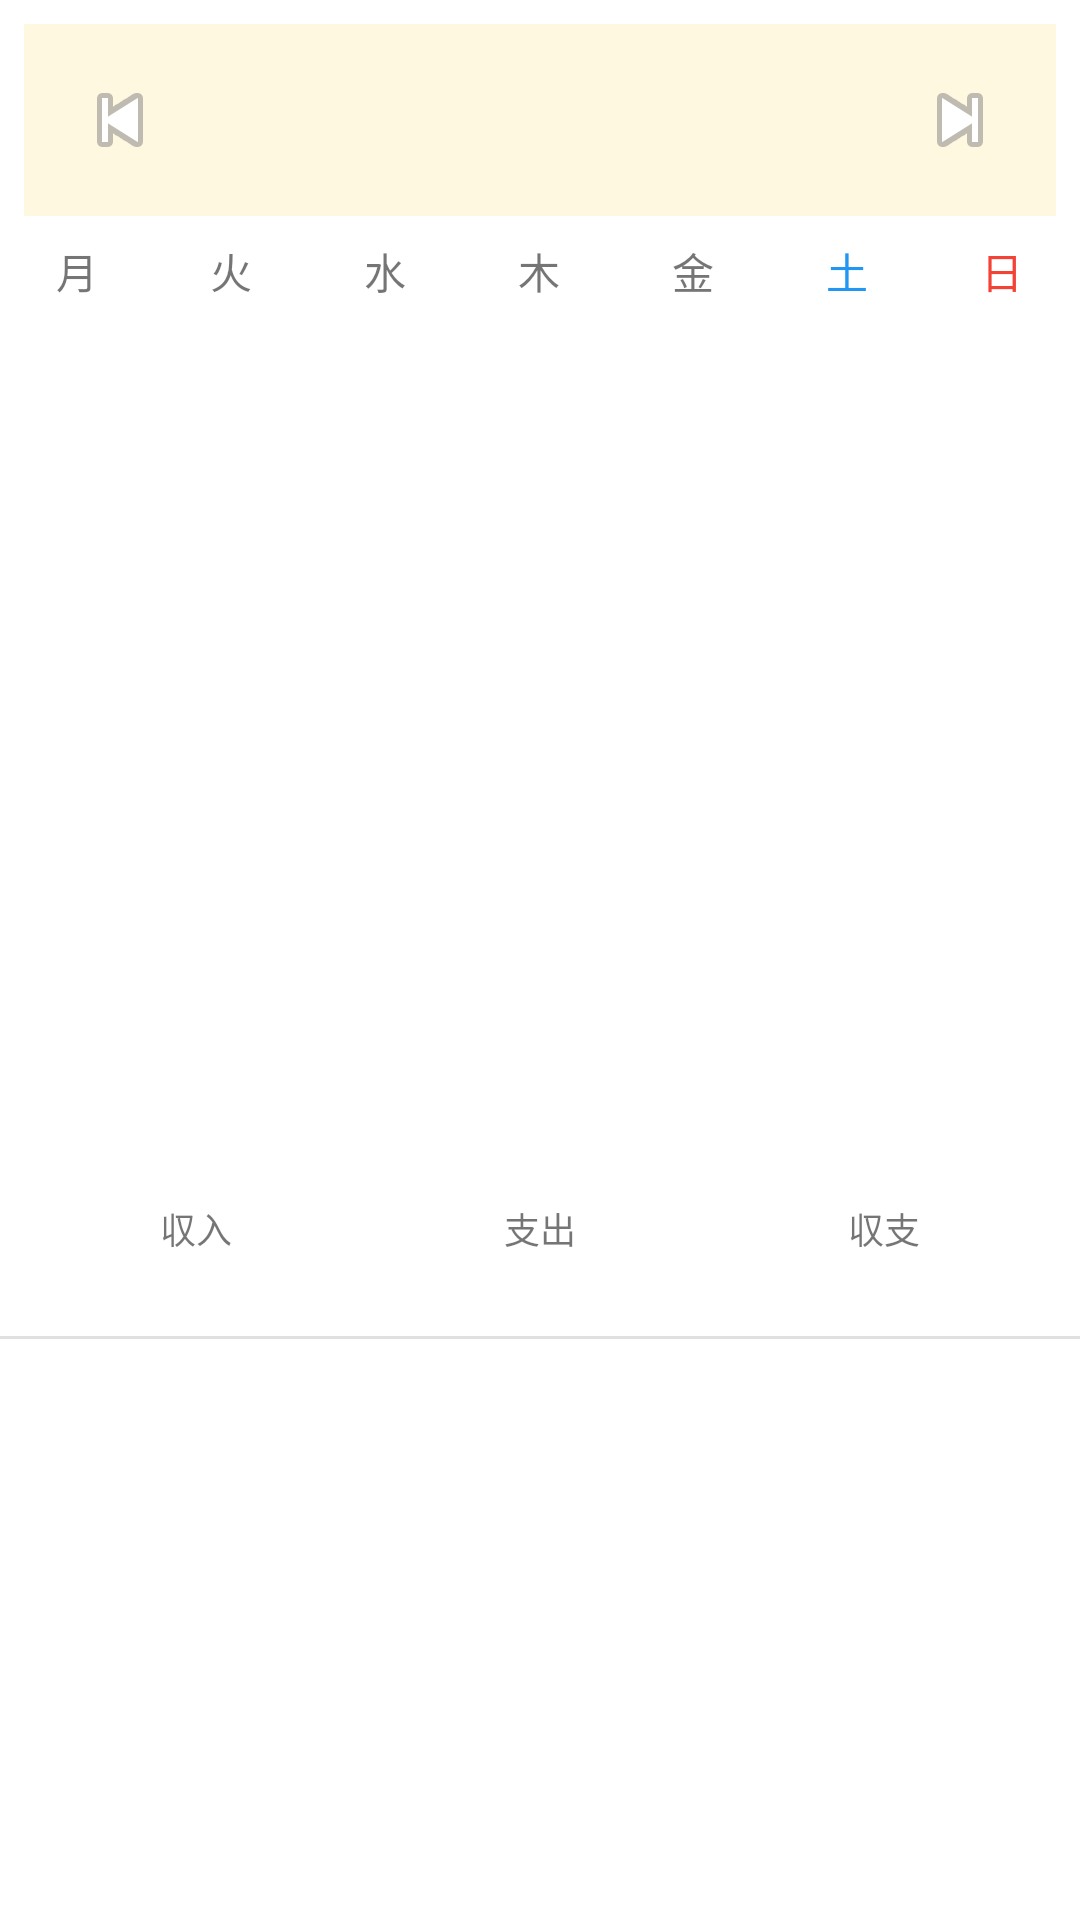

Screen size 1080 × 1920. Icon name, then its box in pixels as Rect(x1, y1, x2, y2):
前月: Rect(97, 93, 143, 147)
翌月: Rect(937, 93, 983, 147)
